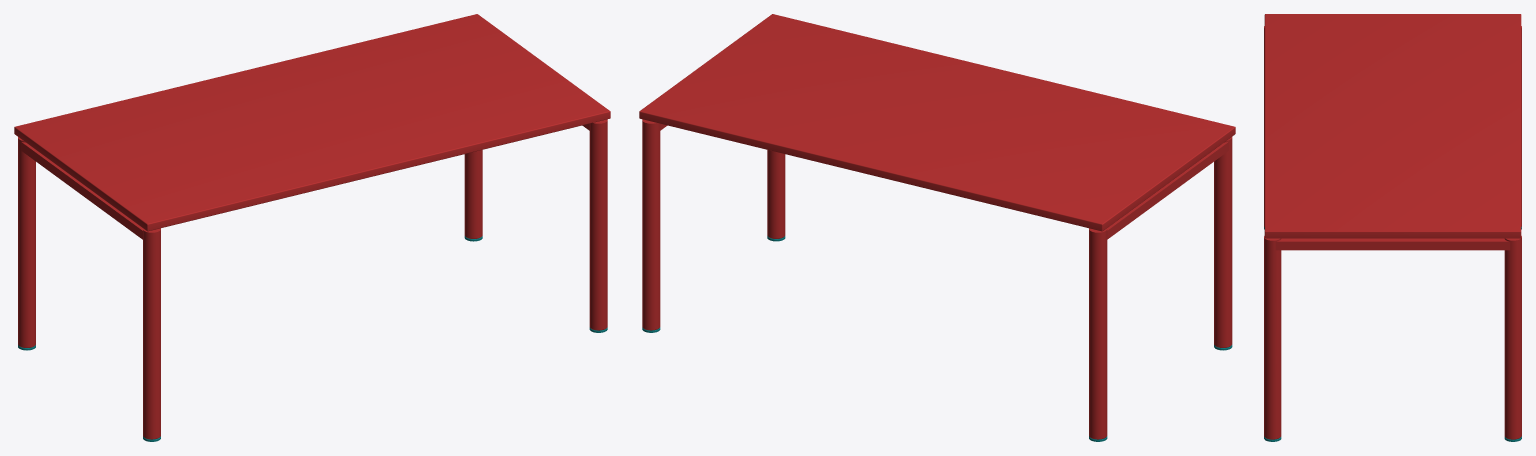
Rendered from SM_Table_02.fbx.
3 renders of one model, left to right at view 1: azimuth 30°, elevation 25°; view 2: azimuth 150°, elevation 25°; view 3: azimuth 270°, elevation 25°, orthographic. The views are drawn at different scales.
Parts seen in each view (by area): view 1: SM_Table_02; view 2: SM_Table_02; view 3: SM_Table_02.
Boxes of the visible parts, bbox=[...] form: SM_Table_02: bbox=[14, 14, 610, 441]; SM_Table_02: bbox=[639, 14, 1235, 441]; SM_Table_02: bbox=[1264, 14, 1521, 441].
Bounding box in the file's own units: 160 × 72 × 79.88.
